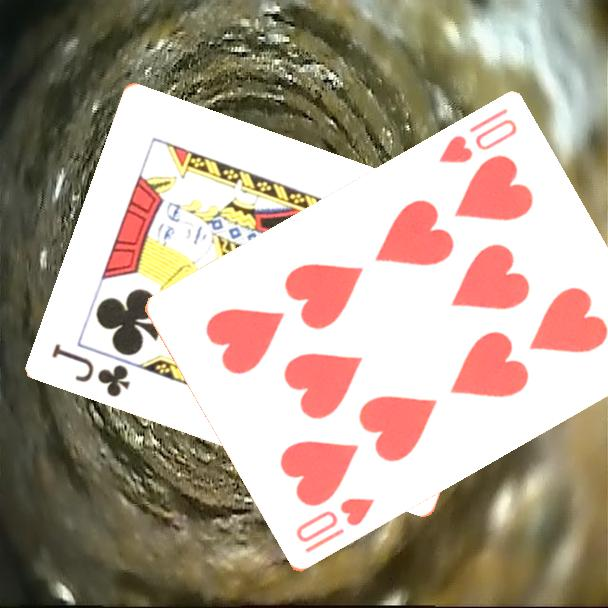c11: (48, 340, 134, 400)
h10: (292, 494, 378, 557), (435, 105, 520, 168)
